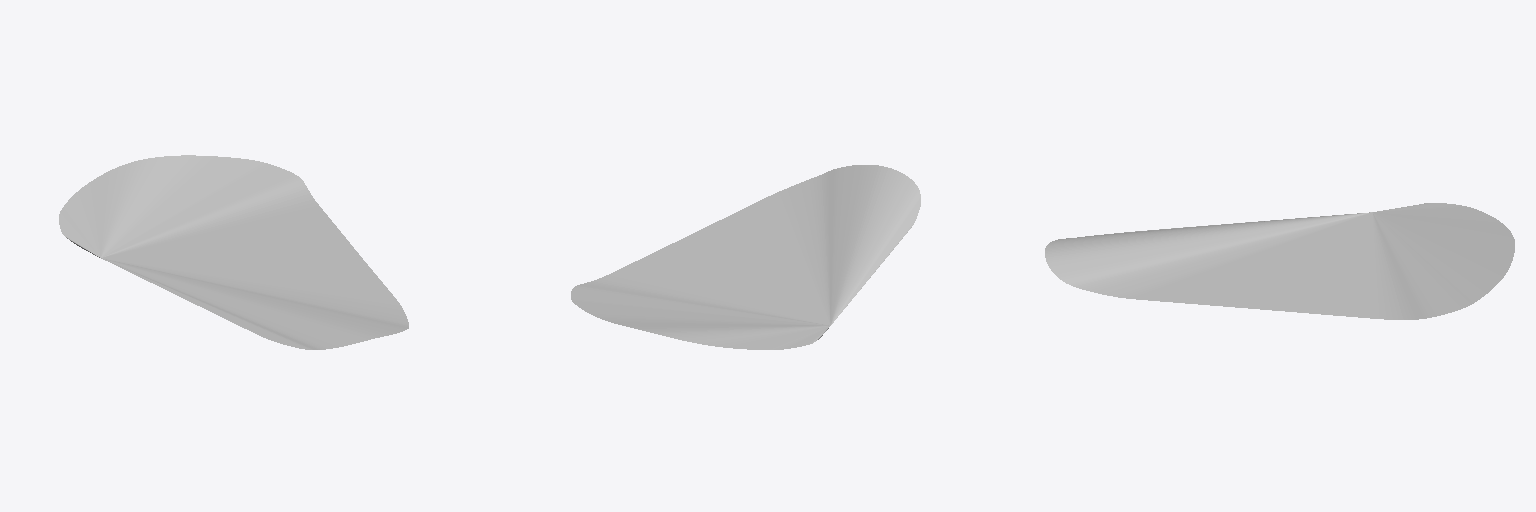
The model's file is AI_waypoints_8.obj.
3 views of the same model, side by side, from view 1: azimuth 30°, elevation 25°; view 2: azimuth 150°, elevation 25°; view 3: azimuth 270°, elevation 25° (orthographic).
Visible parts, largest first — view 1: Waypoints8_Waypoints1.008; view 2: Waypoints8_Waypoints1.008; view 3: Waypoints8_Waypoints1.008.
Boxes of the visible parts, box(x1,y1,x2,y2) form: Waypoints8_Waypoints1.008: box(59, 155, 408, 349); Waypoints8_Waypoints1.008: box(571, 165, 920, 349); Waypoints8_Waypoints1.008: box(1045, 203, 1514, 319).
Bounding box in the file's own units: 193 × 14.74 × 333.